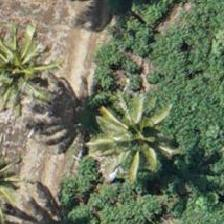coconut_tree: (90, 86, 180, 176), (0, 28, 60, 118)
